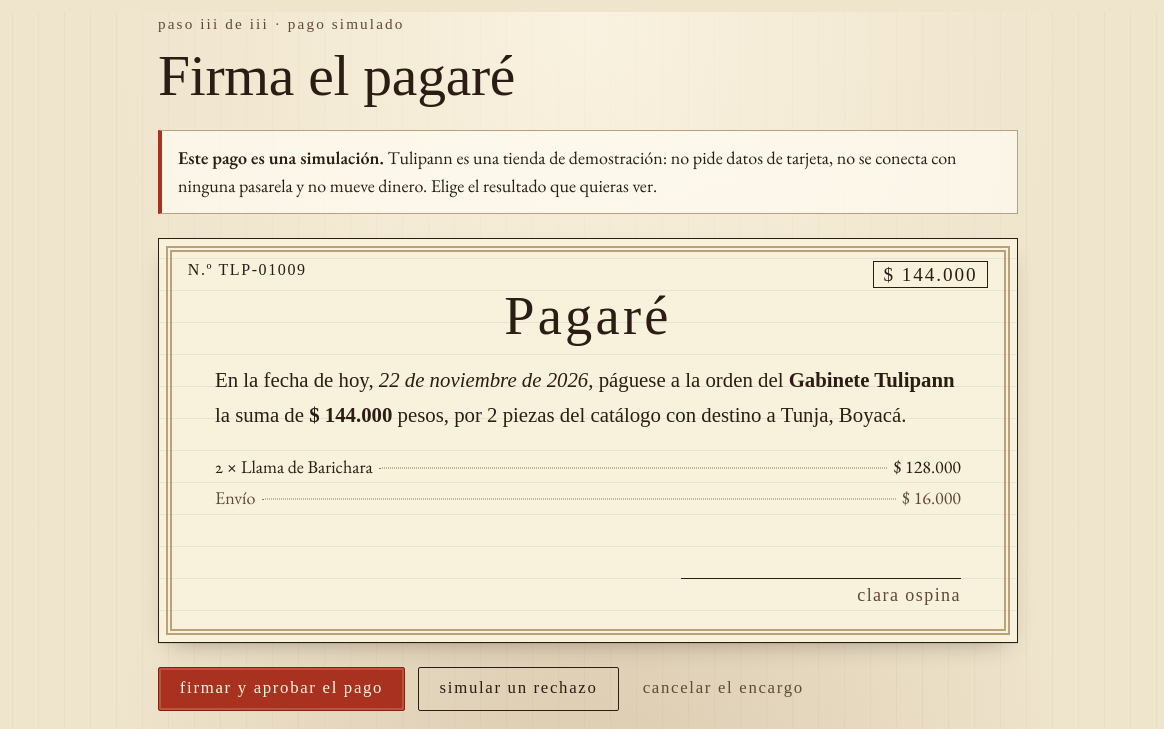
Test case: simulated payment › is clearly labelled, asks for no card data and lets the owner approve
Expected: the text "Este pago es una simulación." is shown, [178,146,384,169]
Expected: the heading "Pagaré" is shown, [504,286,672,346]
Click the button "Firmar y aprobar el pago": coordinates (282, 689) [158,667,405,711]
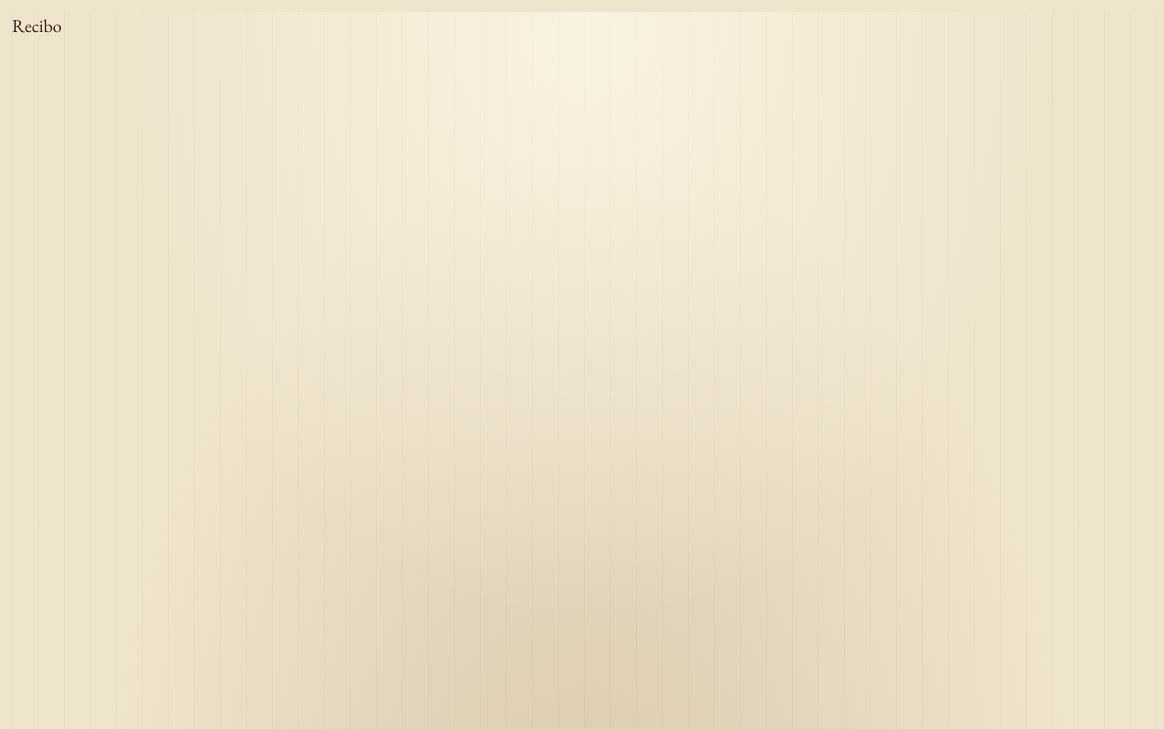
Result: the text "Recibo" is shown at [12,14,62,37]
